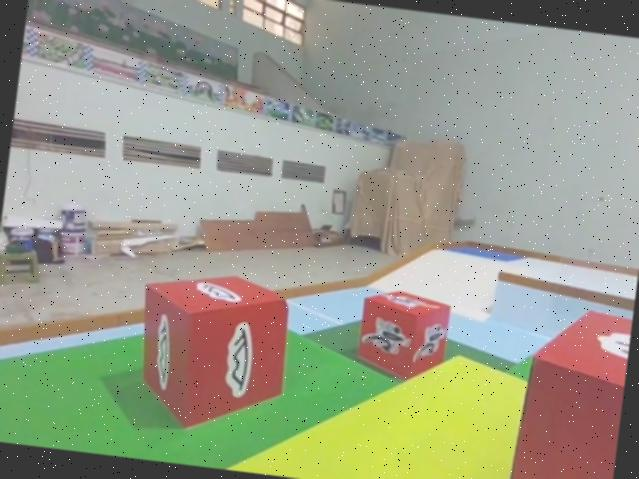R1: (353, 286, 453, 386)
R2 Real: (127, 265, 296, 442)
